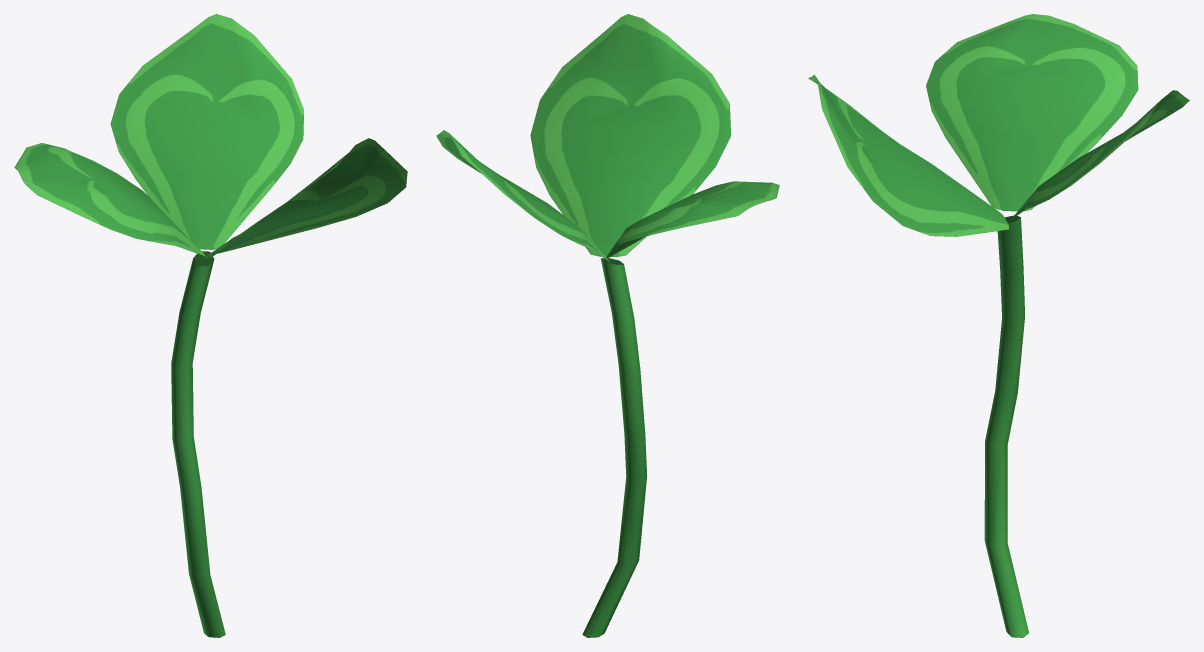
Rendered from SM_Trefle2.fbx.
The picture shows the model from 3 angles, left to right: view 1: azimuth 30°, elevation 25°; view 2: azimuth 150°, elevation 25°; view 3: azimuth 270°, elevation 25°; orthographic projection. The views are drawn at different scales.
Visible parts, largest first — view 1: Trefle_Tige_01; view 2: Trefle_Tige_01; view 3: Trefle_Tige_01.
Part boxes in pixels (x1,y1,x2,y2): Trefle_Tige_01: [14, 14, 407, 637]; Trefle_Tige_01: [436, 14, 779, 637]; Trefle_Tige_01: [808, 14, 1189, 637].
Size of the model in its own units: 8.31 by 8.41 by 14.21.
Materials: 1 (1 with a texture image).
